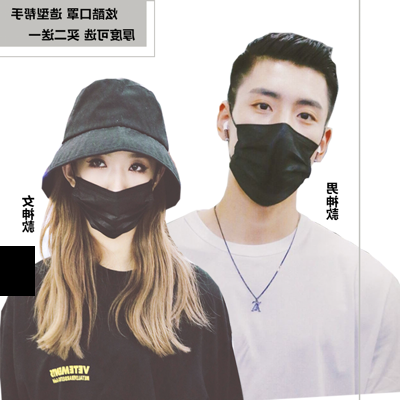with_mask: (226, 87, 327, 206), (73, 152, 155, 239)
